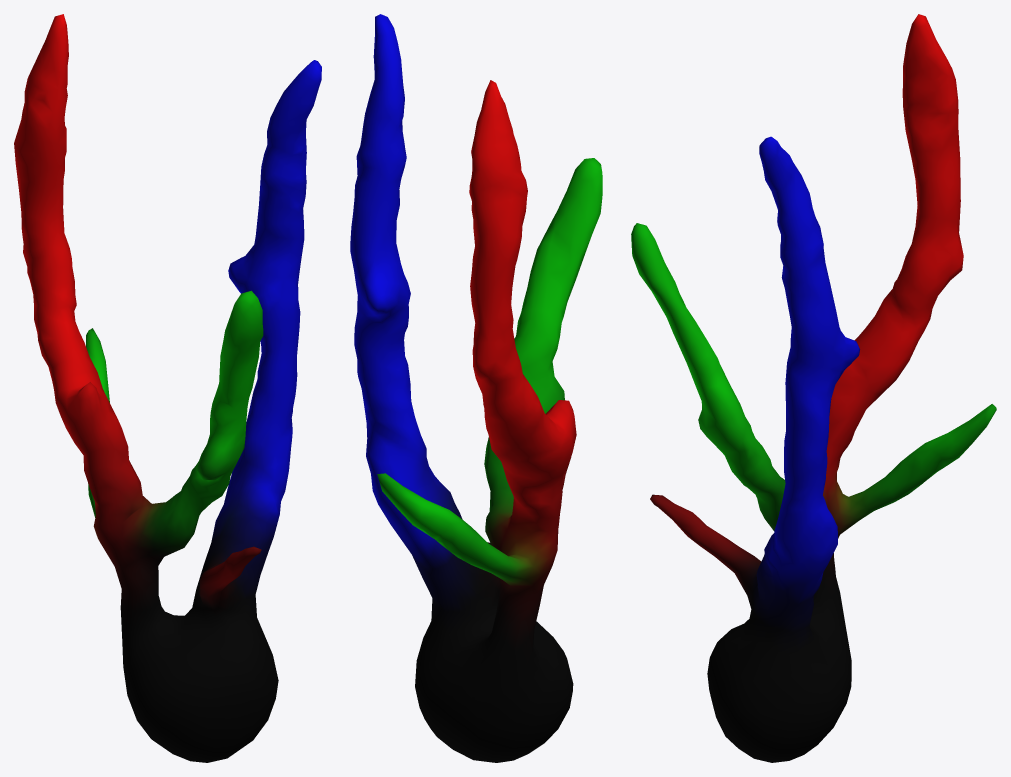
Rendered from SM_Biomass_DecoWorm_A_Top.fbx.
3 views of the same model, side by side, from view 1: azimuth 30°, elevation 25°; view 2: azimuth 150°, elevation 25°; view 3: azimuth 270°, elevation 25° (orthographic). The views are drawn at different scales.
Visible parts, largest first — view 1: SM_Biomass_DecoWorm_A_Top_LOD0; view 2: SM_Biomass_DecoWorm_A_Top_LOD0; view 3: SM_Biomass_DecoWorm_A_Top_LOD0.
Boxes of the visible parts, x1,y1,x2,y2 form: SM_Biomass_DecoWorm_A_Top_LOD0: [14, 14, 321, 762]; SM_Biomass_DecoWorm_A_Top_LOD0: [350, 14, 602, 762]; SM_Biomass_DecoWorm_A_Top_LOD0: [631, 14, 996, 762].
Bounding box in the file's own units: 43.81 × 62.95 × 134.
